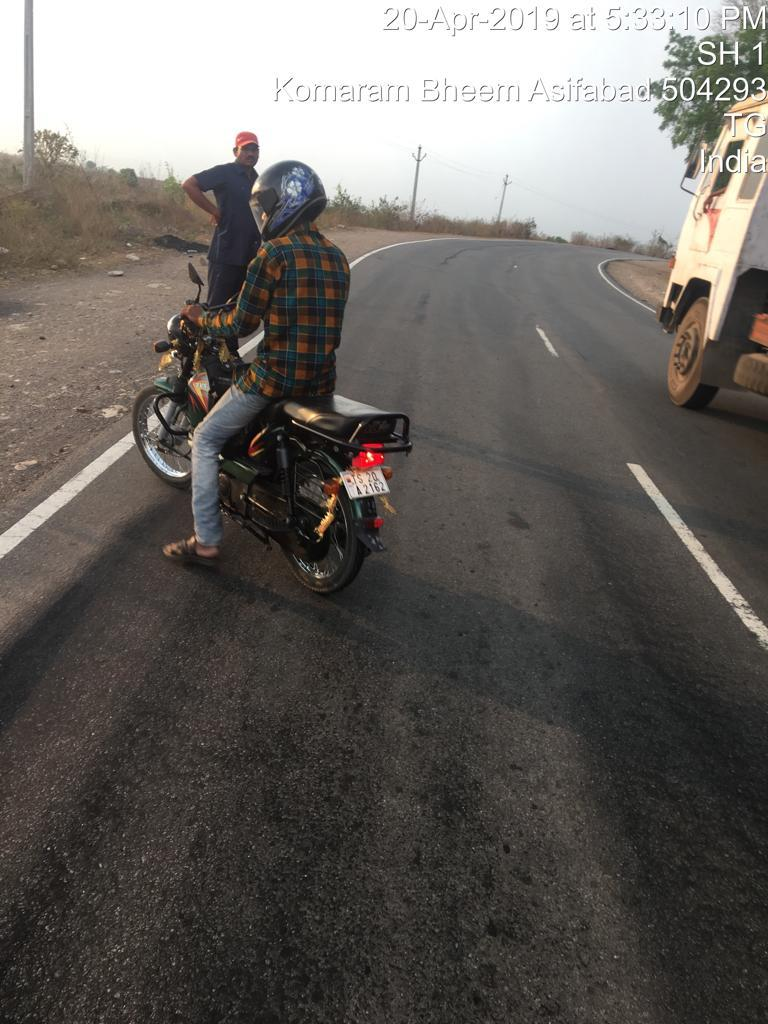plate: (330, 459, 411, 512)
